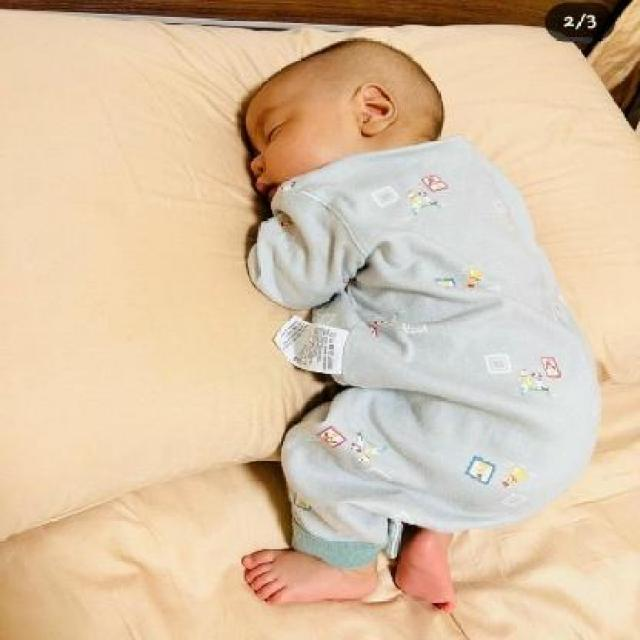child: (237, 34, 599, 612)
